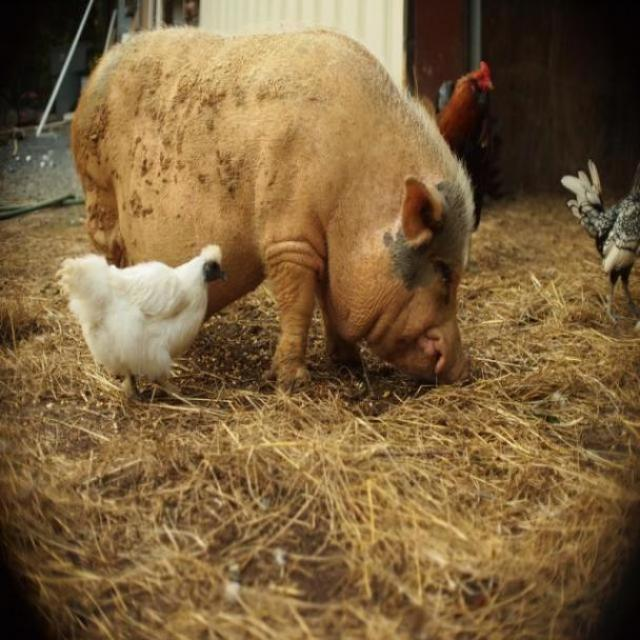Chicken: (53, 237, 229, 403), (554, 154, 640, 322), (432, 61, 500, 207)
